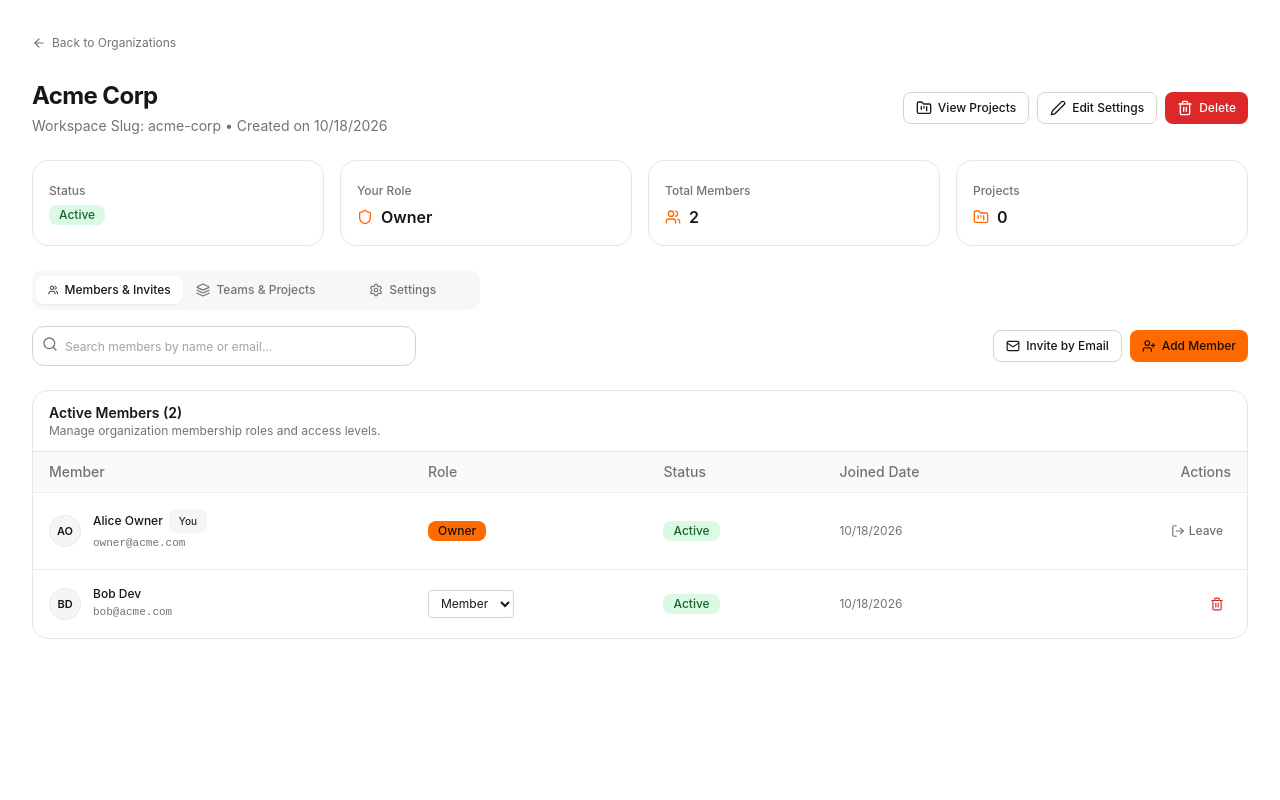
Test: OrganizationDetailsPage › allows inviting a new member via email
Click the button "Invite by Email".
click(1058, 346)  # box [993,330,1122,362]
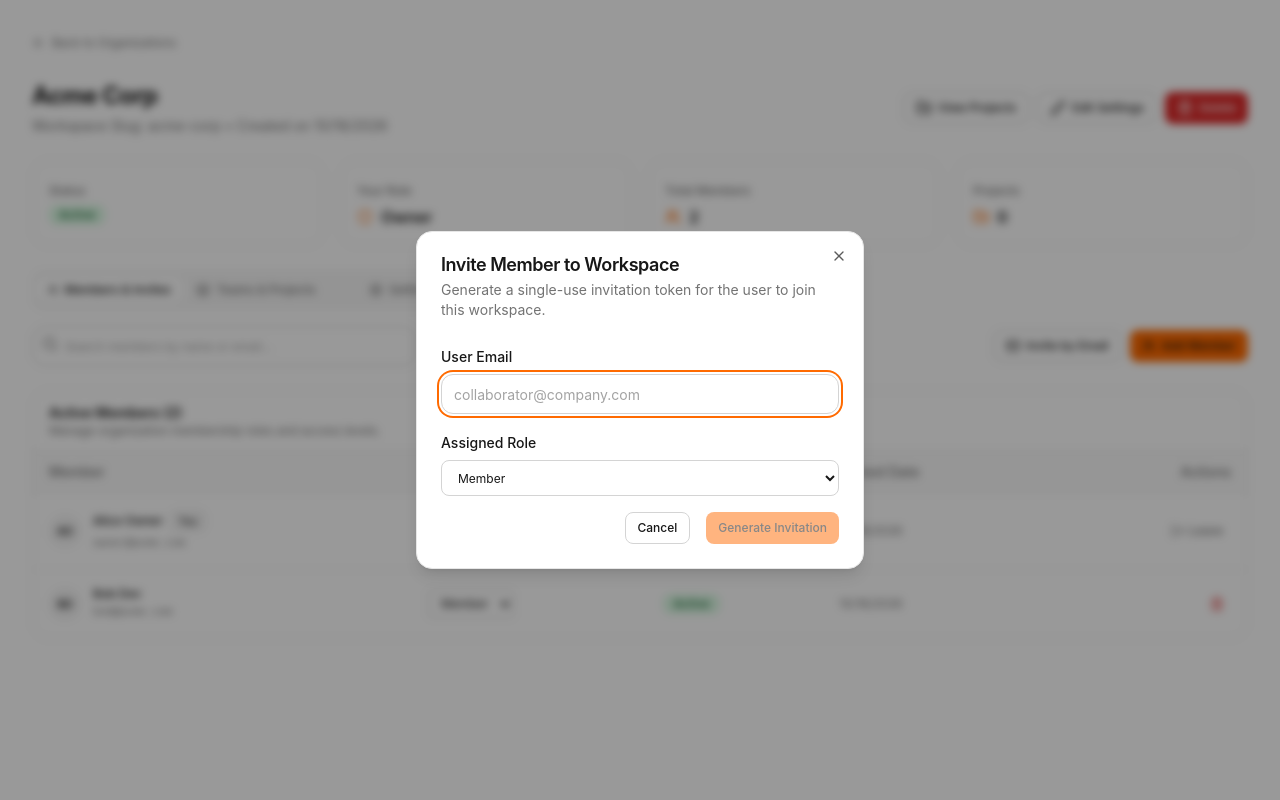
Now the dialog is shown, box [416,231,864,569]
Type "newmember@acme.com" into the field labelled "User Email".
click(640, 394); type("newmember@acme.com")  # box [441,374,839,414]
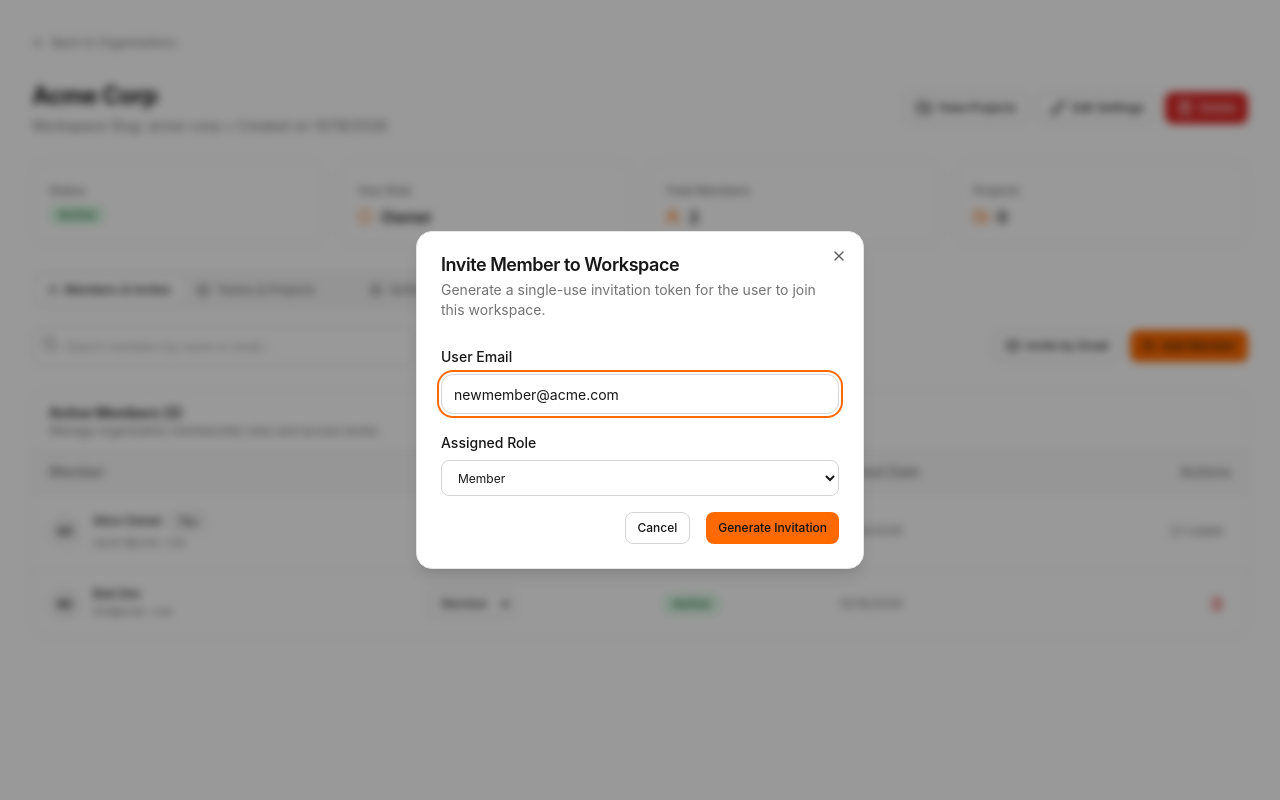
Submit the form labelled "User Email Assigned Role Cancel Generate Invitation", box [441,336,839,544]
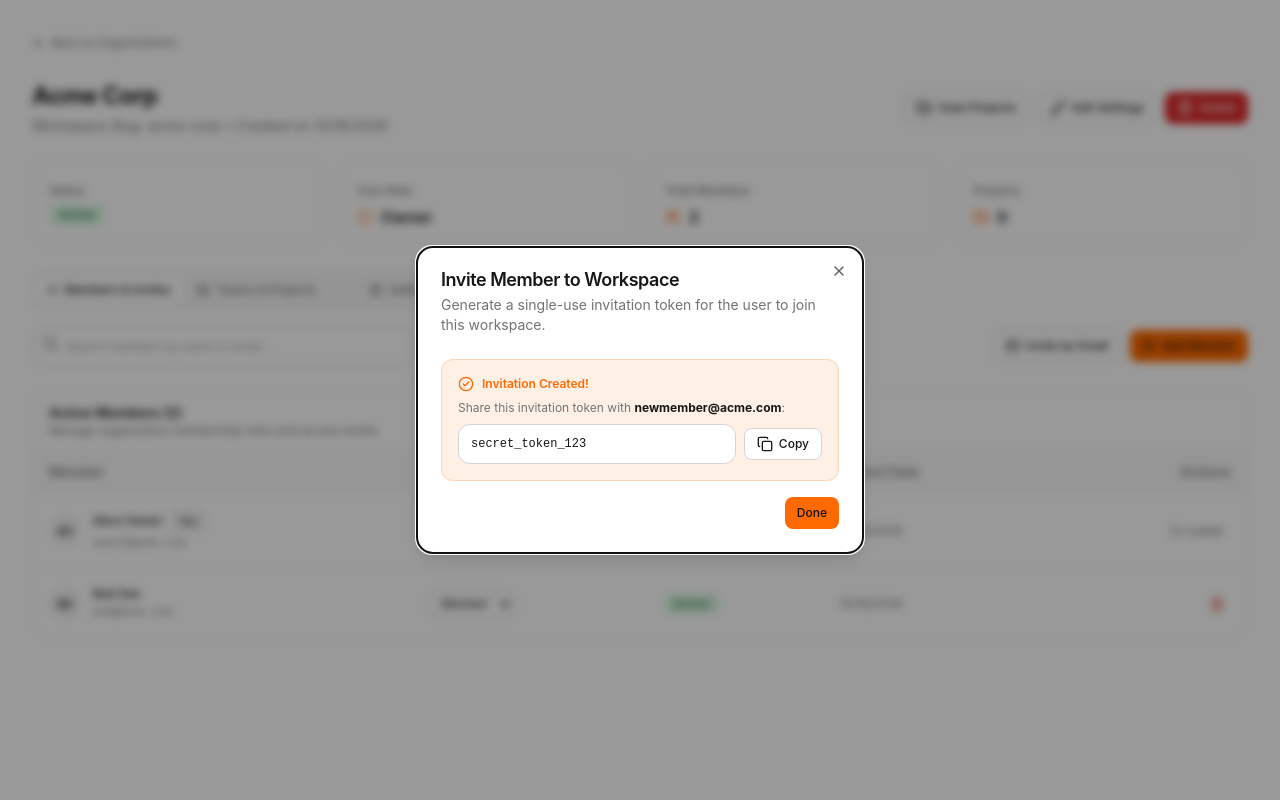
Now the field showing "secret_token_123" is shown, box [458,424,736,464]
